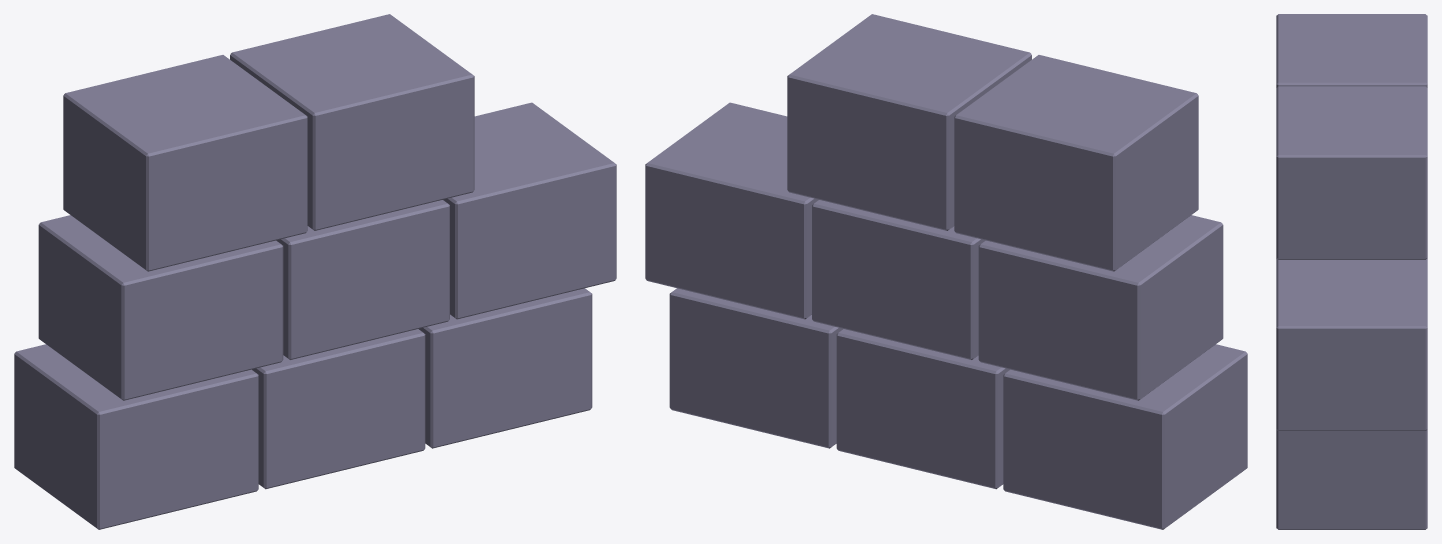
File: ruin_wall_small_01.glb
3 renders of one model, left to right at view 1: azimuth 30°, elevation 25°; view 2: azimuth 150°, elevation 25°; view 3: azimuth 270°, elevation 25°, orthographic. The views are drawn at different scales.
Parts seen in each view (by area): view 1: ruin_wall_small_01; view 2: ruin_wall_small_01; view 3: ruin_wall_small_01.
Part boxes in pixels (x1,y1,x2,y2): ruin_wall_small_01: (14,14,616,529); ruin_wall_small_01: (645,14,1247,529); ruin_wall_small_01: (1276,14,1427,529).
Bounding box in the file's own units: 1.06 × 0.71 × 0.3.
